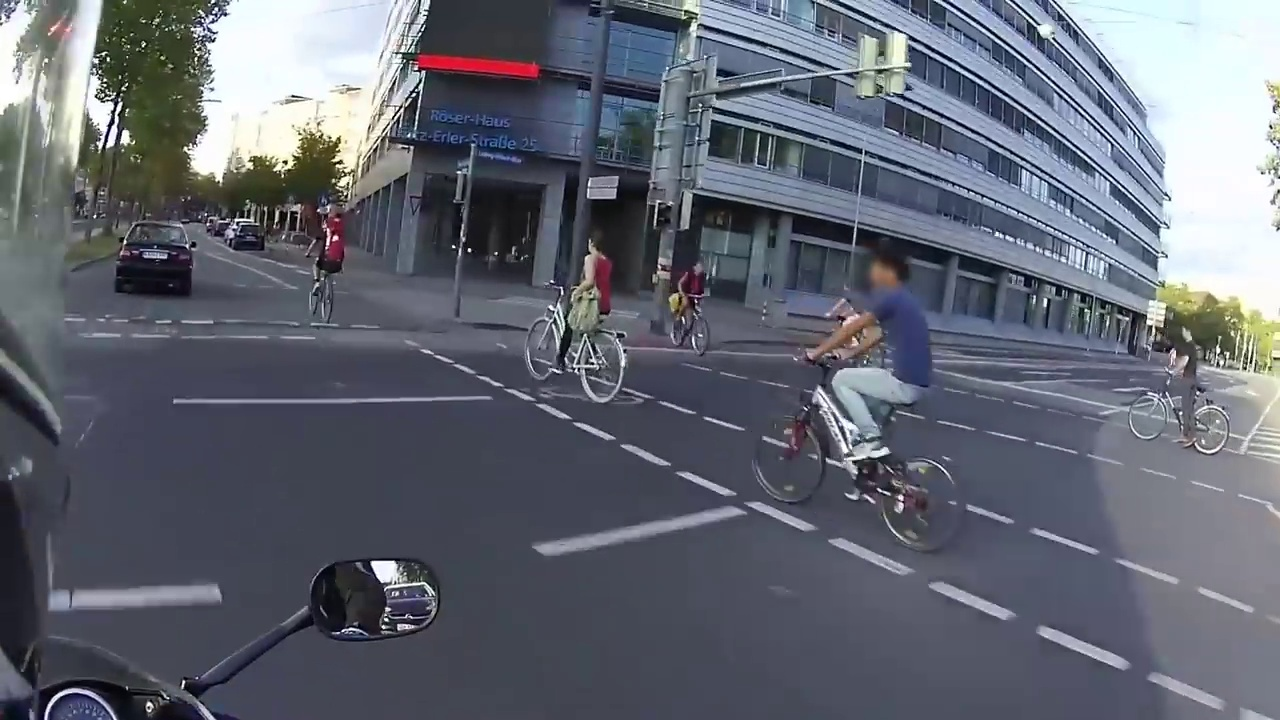cyclist_back: (306, 194, 353, 331)
cyclist_front: (662, 261, 713, 364)
cyclist_side: (747, 258, 975, 560), (532, 230, 625, 409), (1128, 318, 1242, 461)
